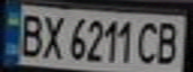1: (115, 17, 136, 64), (103, 17, 121, 63)
2: (84, 16, 106, 63)
6: (63, 14, 87, 62)
B: (151, 18, 187, 66), (15, 9, 45, 57)
C: (136, 18, 163, 65)
X: (36, 11, 66, 61)
